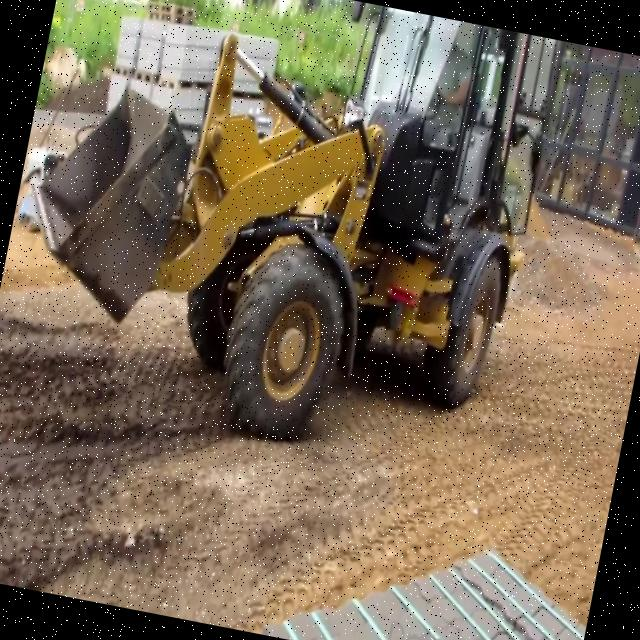Loader: (0, 0, 562, 478)
